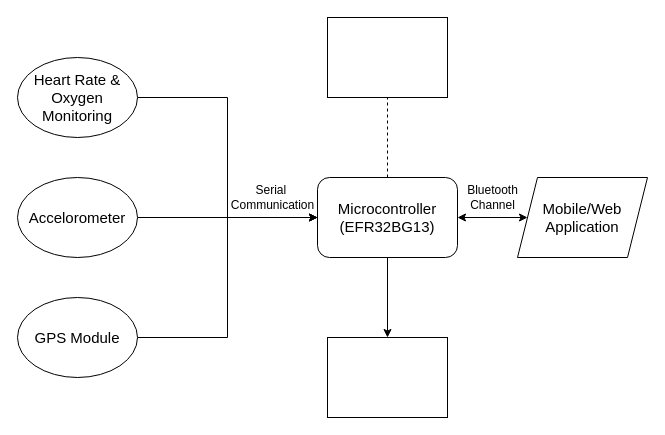
Some shapes in this 665 by 435 pixel diagram are drawn without their labels. Here are the shapes that lost their labels. From the top down, the centre of each, then its label:
the point at 387,57: Battery/Power/ Solar Energy
the point at 387,377: LEDs/Alarm/LCD Indicators
